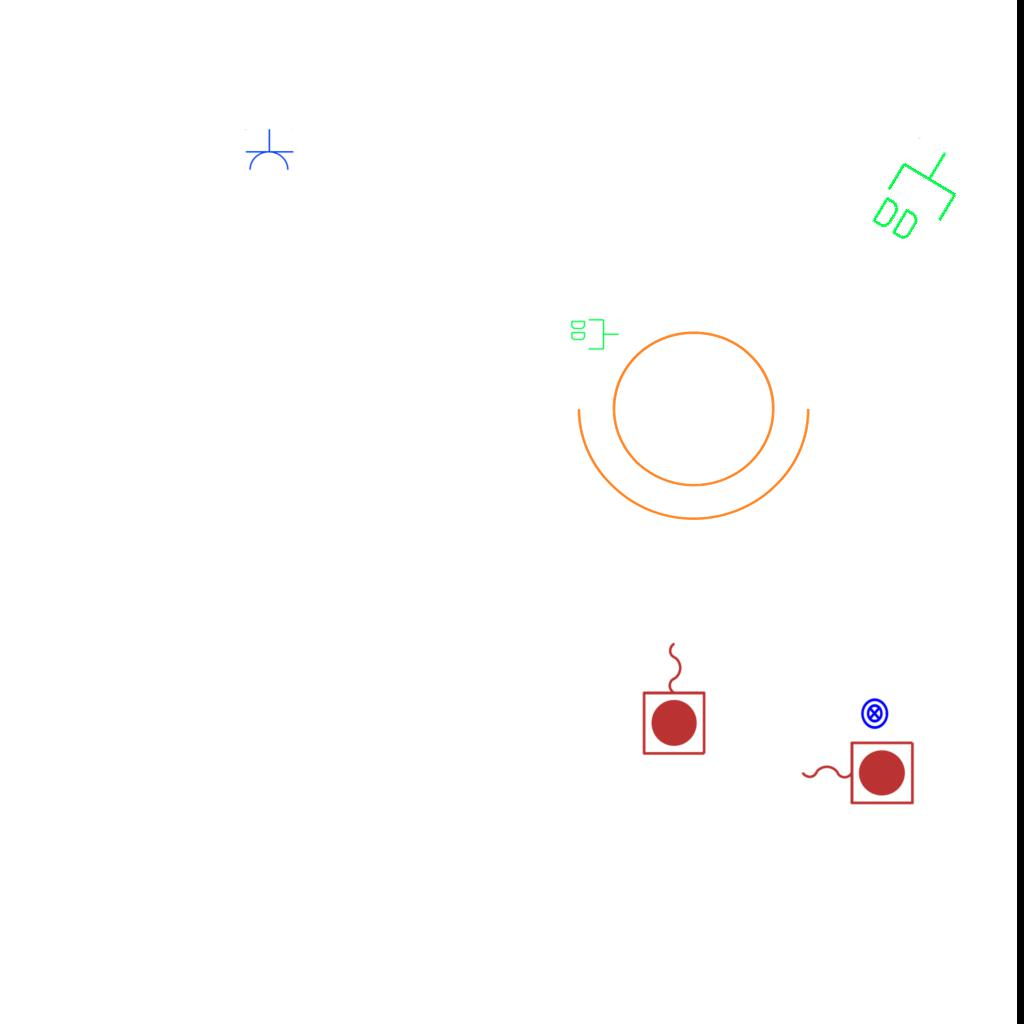Datenanschluss_zweifach: (863, 132, 976, 257), (569, 317, 620, 351)
Scheinwerfer_fuer_Alarmbeleuchtung: (568, 306, 832, 531)
Schukosteckdose_einfach: (244, 129, 294, 172)
Taster_beleuchtet: (858, 697, 891, 730)
Zugtaster: (796, 736, 918, 808), (639, 637, 711, 759)
